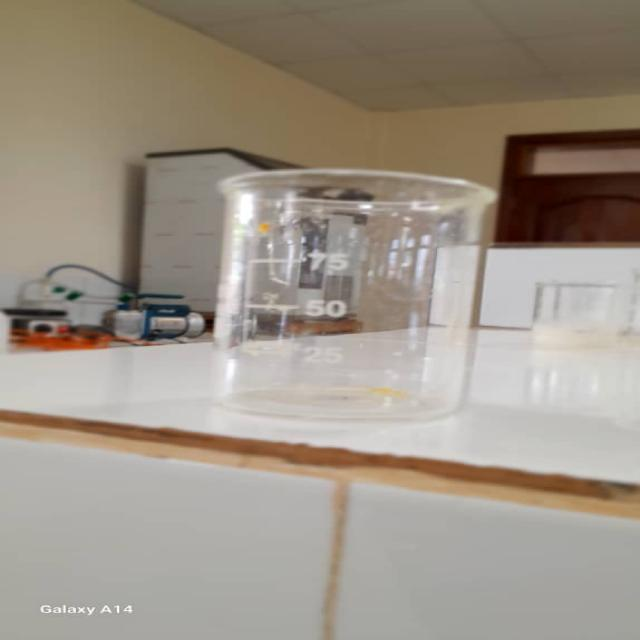Beakers: (208, 164, 510, 426)
